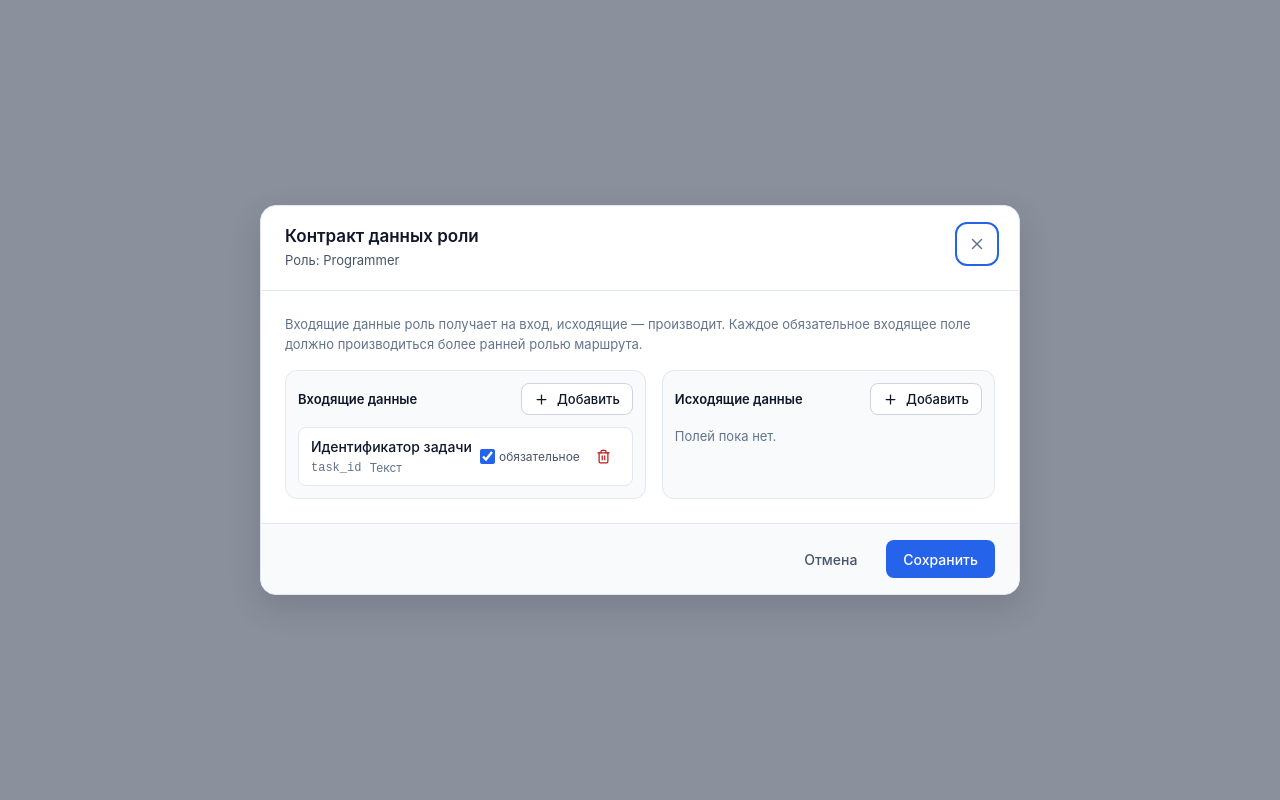
Scenario: RoleFieldsModal — контракт данных роли › показывает поставленные на паузу проекты после сохранения
Click the button "Сохранить" at (941, 559), box [886, 540, 995, 578]
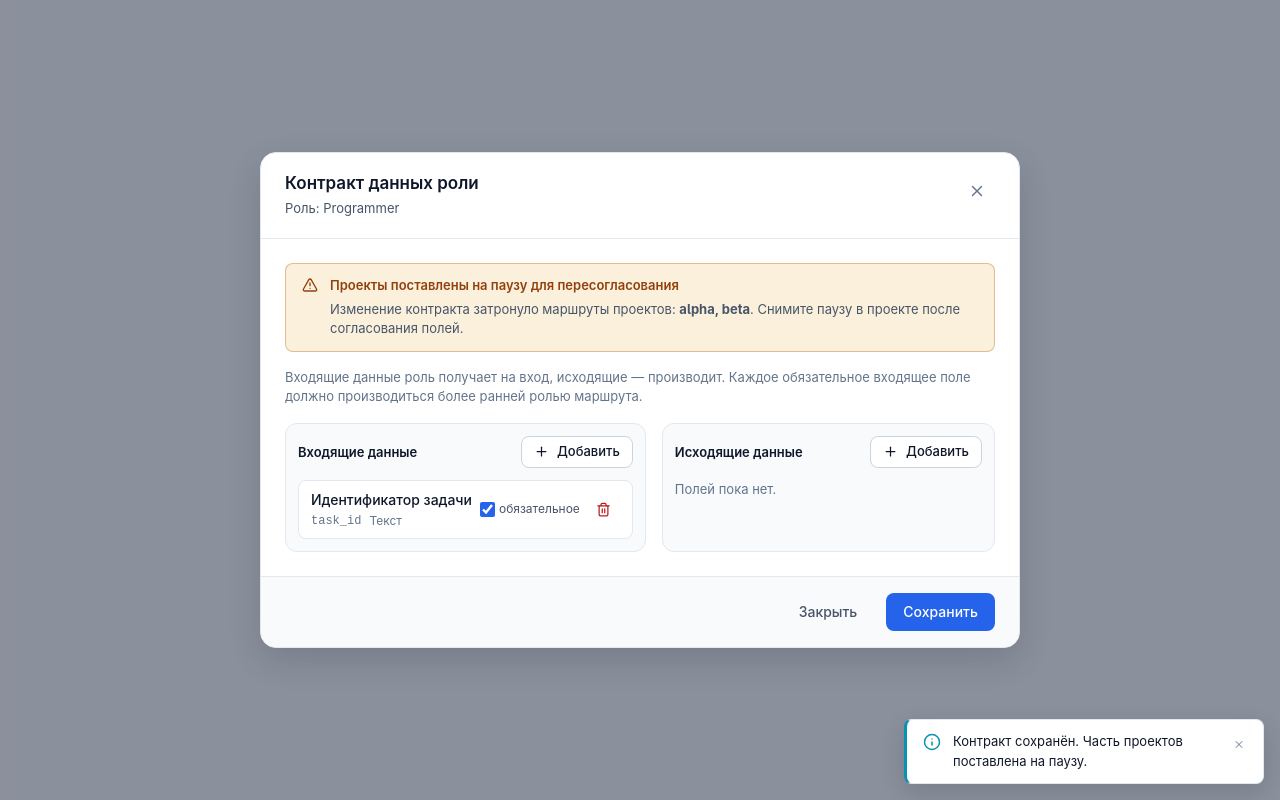
Check: the text "Проекты поставлены на паузу для пересогласования" is shown, box [330, 277, 679, 293]
Check: the text "alpha, beta" is shown, box [679, 301, 750, 317]
